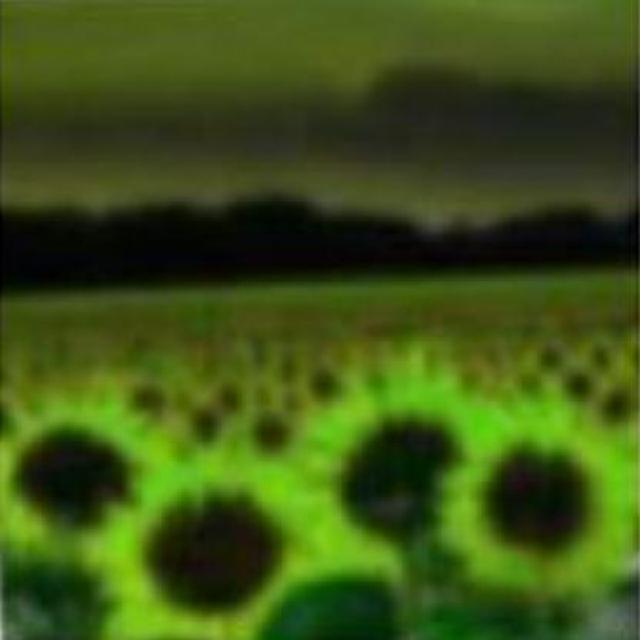sunflower: (99, 464, 348, 640), (442, 416, 632, 602)
